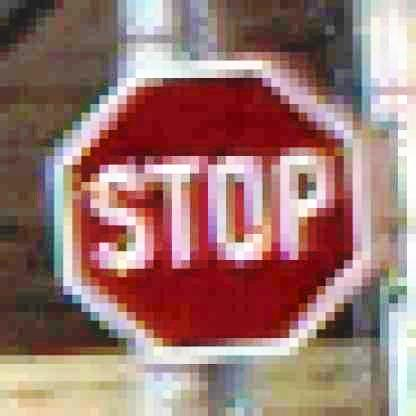Stop Sign: (49, 59, 368, 362)
